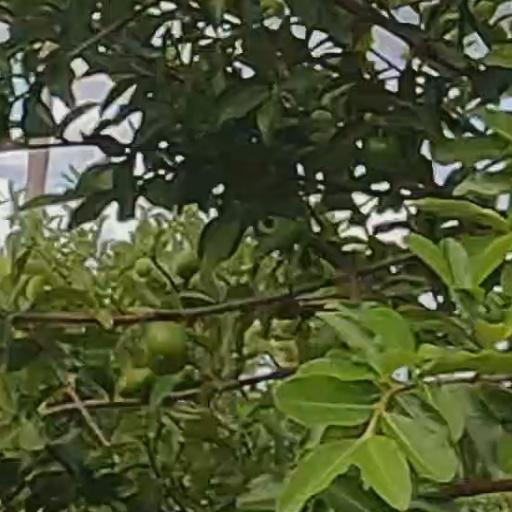acerola: (144, 325, 187, 375)
